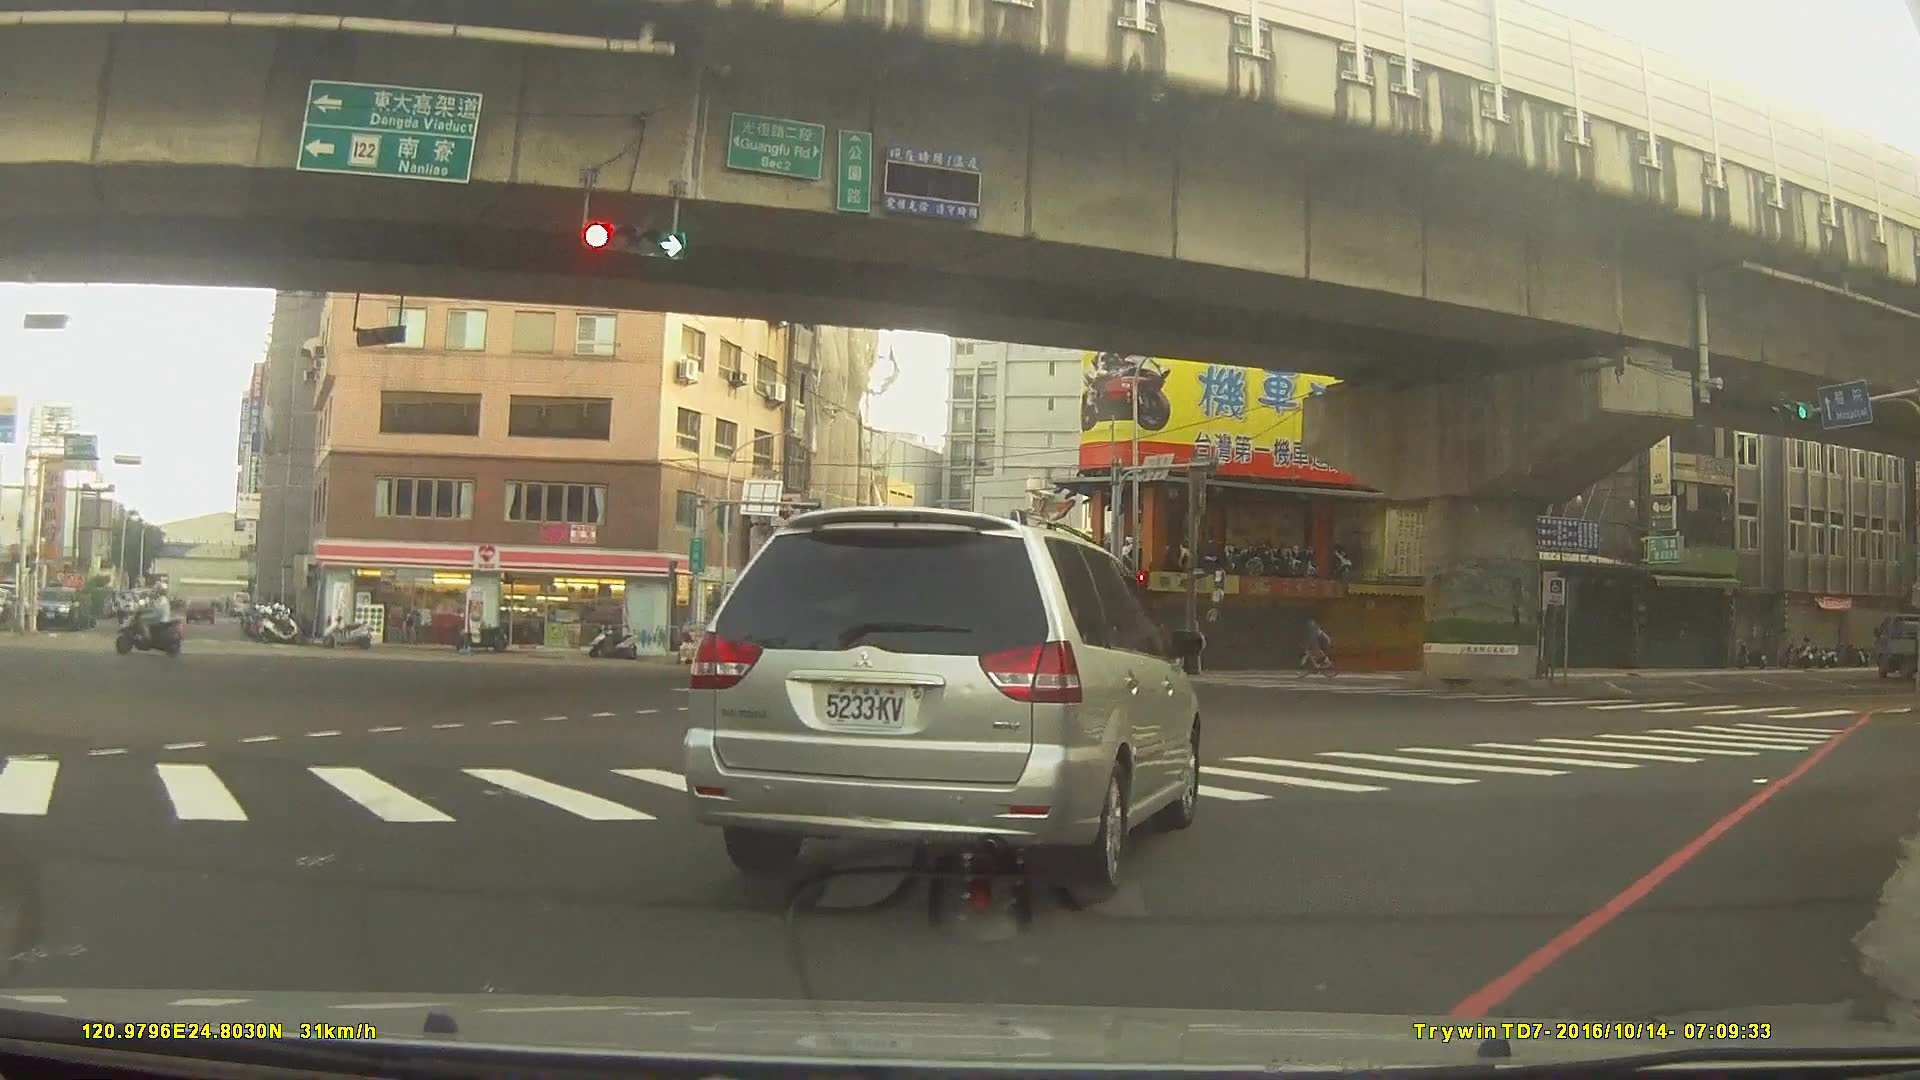rider: (119, 583, 184, 660), (1285, 617, 1342, 679)
vehicle: (682, 505, 1200, 896), (1870, 614, 1920, 678), (850, 631, 921, 672), (32, 587, 77, 632), (543, 606, 605, 633), (182, 596, 216, 624)
